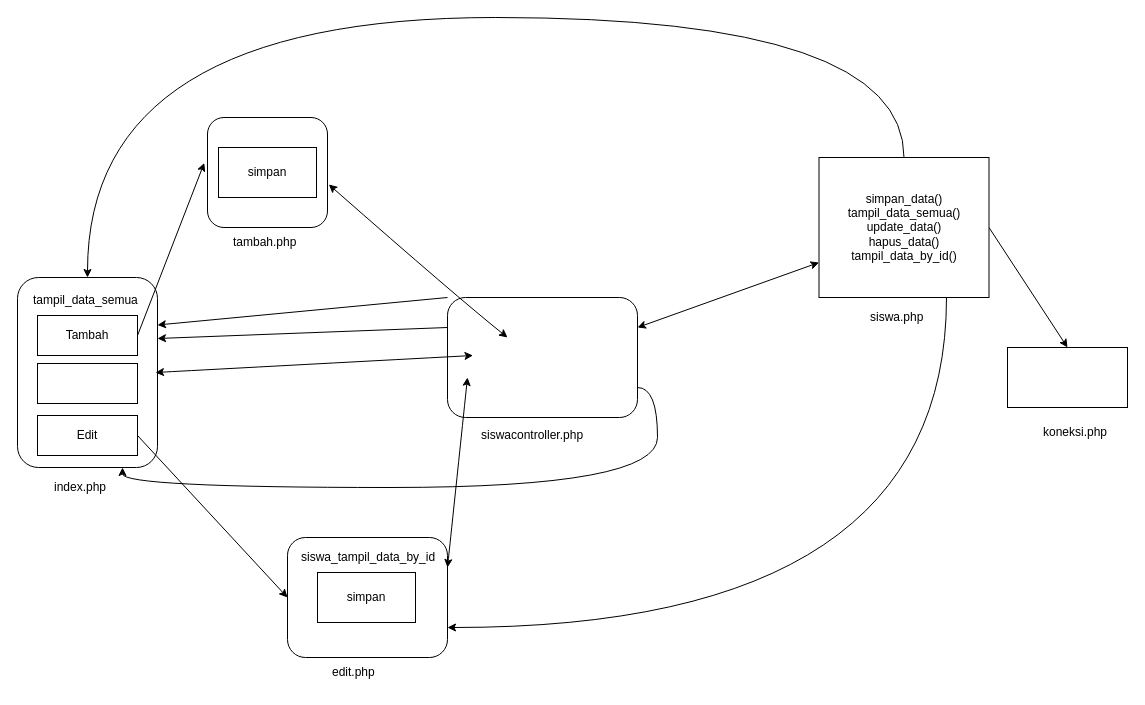
Some shapes in this 1145 by 705 pixel diagram are drawn without their labels. Each missing label, with the box of its shape:
Hapus: (36, 362, 138, 404)
siswa->simpan_data siswa->hapus_data_siswa siswa->update_data_siswa: (446, 296, 638, 418)
